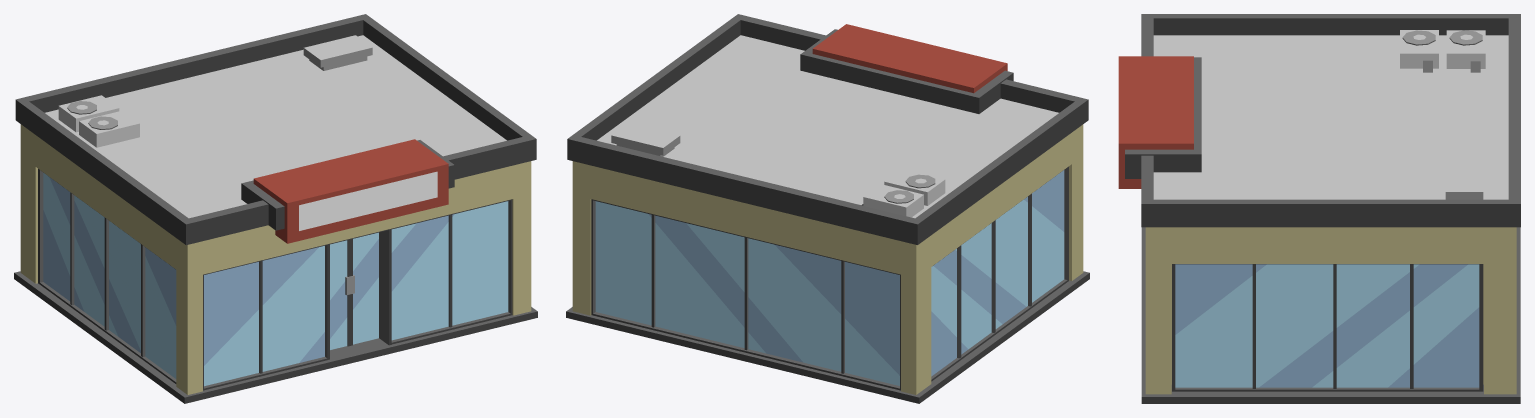
Rendered from supermarket_003.fbx.
The picture shows the model from 3 angles, left to right: view 1: azimuth 30°, elevation 25°; view 2: azimuth 150°, elevation 25°; view 3: azimuth 270°, elevation 25°; orthographic projection. The views are drawn at different scales.
Parts seen in each view (by area): view 1: supermarket_003; view 2: supermarket_003; view 3: supermarket_003.
Boxes of the visible parts, x1,y1,x2,y2 form: supermarket_003: [14, 14, 537, 403]; supermarket_003: [566, 14, 1089, 403]; supermarket_003: [1118, 14, 1520, 403].
Bounding box in the file's own units: 682 × 343 × 606.
